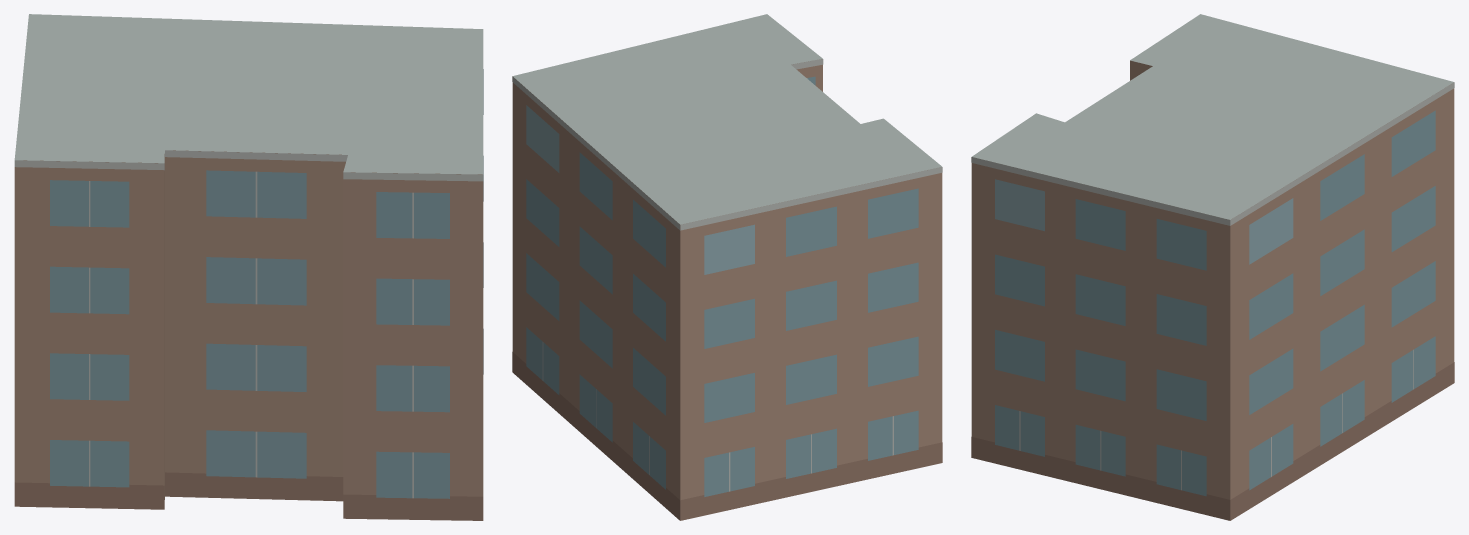
Rendered from survey-upis-32770135.glb.
3 renders of one model, left to right at view 1: azimuth 30°, elevation 25°; view 2: azimuth 150°, elevation 25°; view 3: azimuth 270°, elevation 25°, orthographic. The views are drawn at different scales.
Parts seen in each view (by area): view 1: survey-upis-32770135.tmp; view 2: survey-upis-32770135.tmp; view 3: survey-upis-32770135.tmp.
Boxes of the visible parts, bbox=[...] form: survey-upis-32770135.tmp: bbox=[14, 14, 483, 520]; survey-upis-32770135.tmp: bbox=[512, 14, 942, 520]; survey-upis-32770135.tmp: bbox=[971, 14, 1454, 520].
Size of the model in its own units: 17.91 by 12.2 by 17.75.
